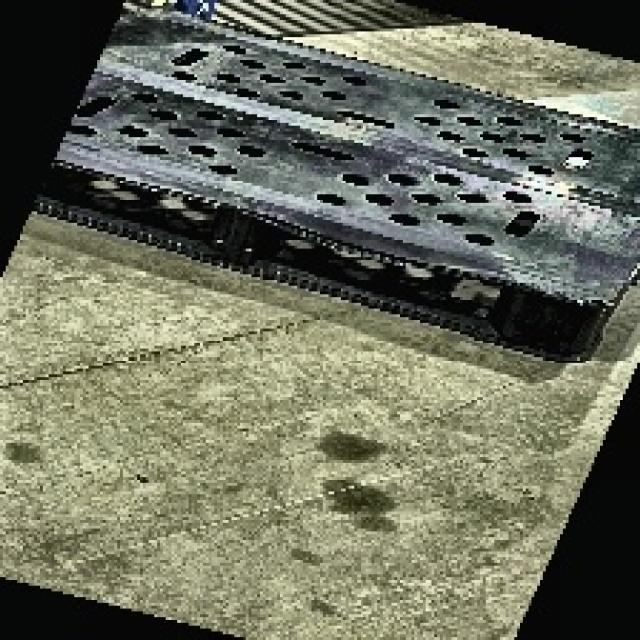igps: (28, 0, 640, 368)
